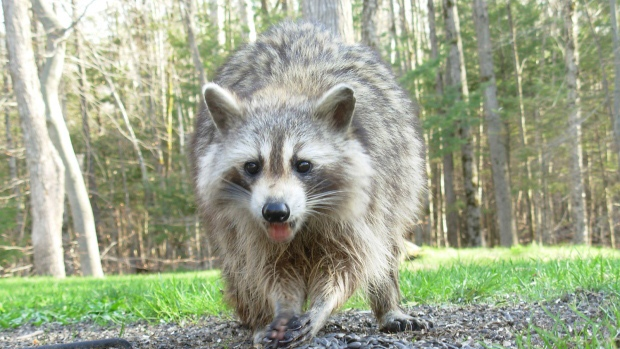raccoon: (169, 14, 473, 348)
